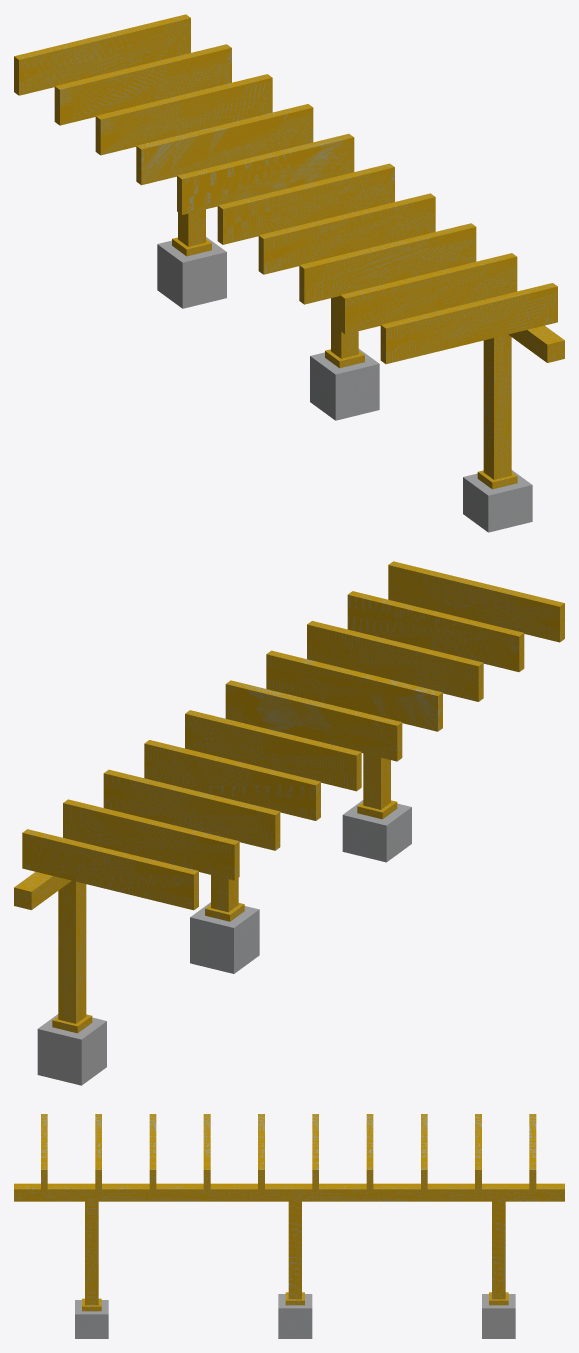
The model's file is model_orig.dae.
3 renders of one model, top to bottom at view 1: azimuth 30°, elevation 25°; view 2: azimuth 150°, elevation 25°; view 3: azimuth 270°, elevation 25°, orthographic. The views are drawn at different scales.
Parts seen in each view (by area): view 1: SketchUp (×5); view 2: SketchUp (×5); view 3: SketchUp (×5).
Part boxes in pixels (x1,y1,x2,y2): SketchUp (×5): (14,14,564,532); SketchUp (×5): (14,561,564,1085); SketchUp (×5): (14,1114,564,1338).
Size of the model in its own units: 39 by 162 by 55.
